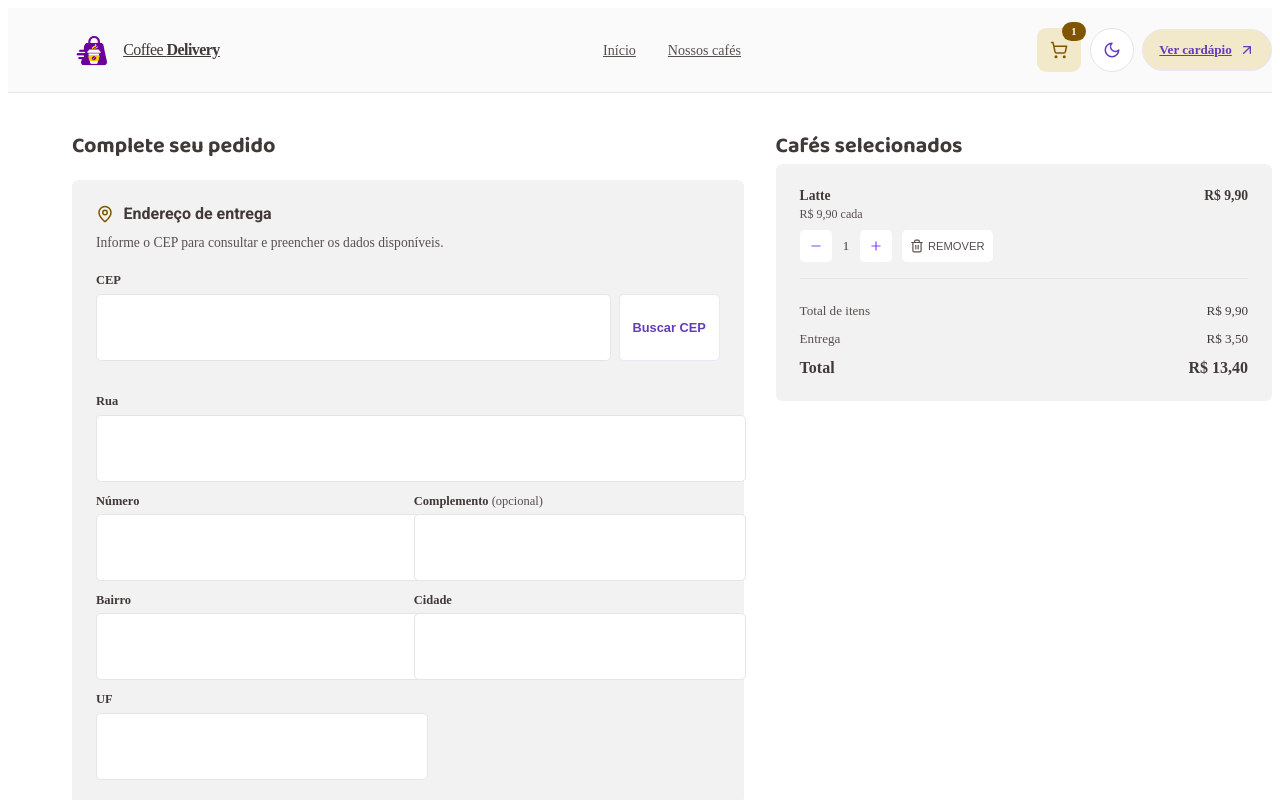
CheckoutPage › keeps the cart when saving a confirmed order fails
Type "01001000" into the field labelled "CEP".
click(353, 327); type("01001000")  # box [96, 294, 611, 361]
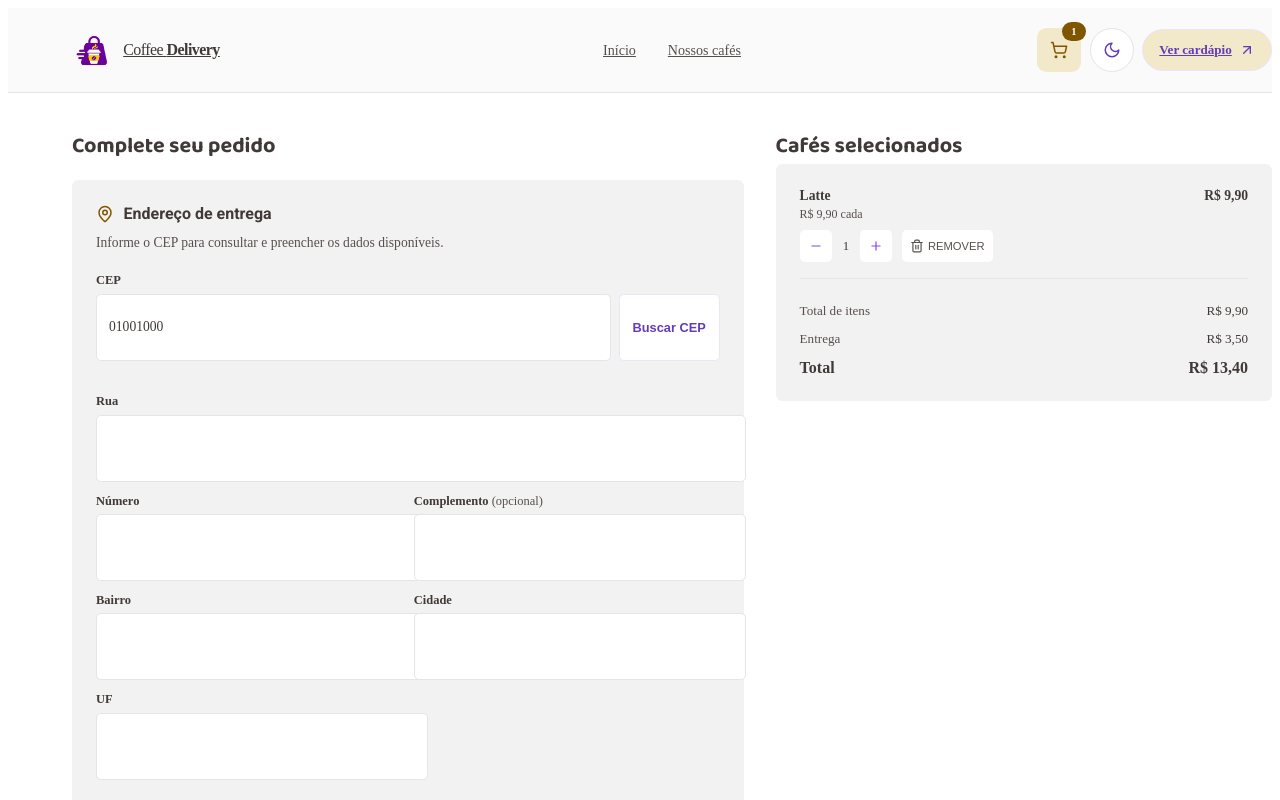
Click the button "Buscar CEP".
click(669, 327)  # box [619, 294, 720, 361]
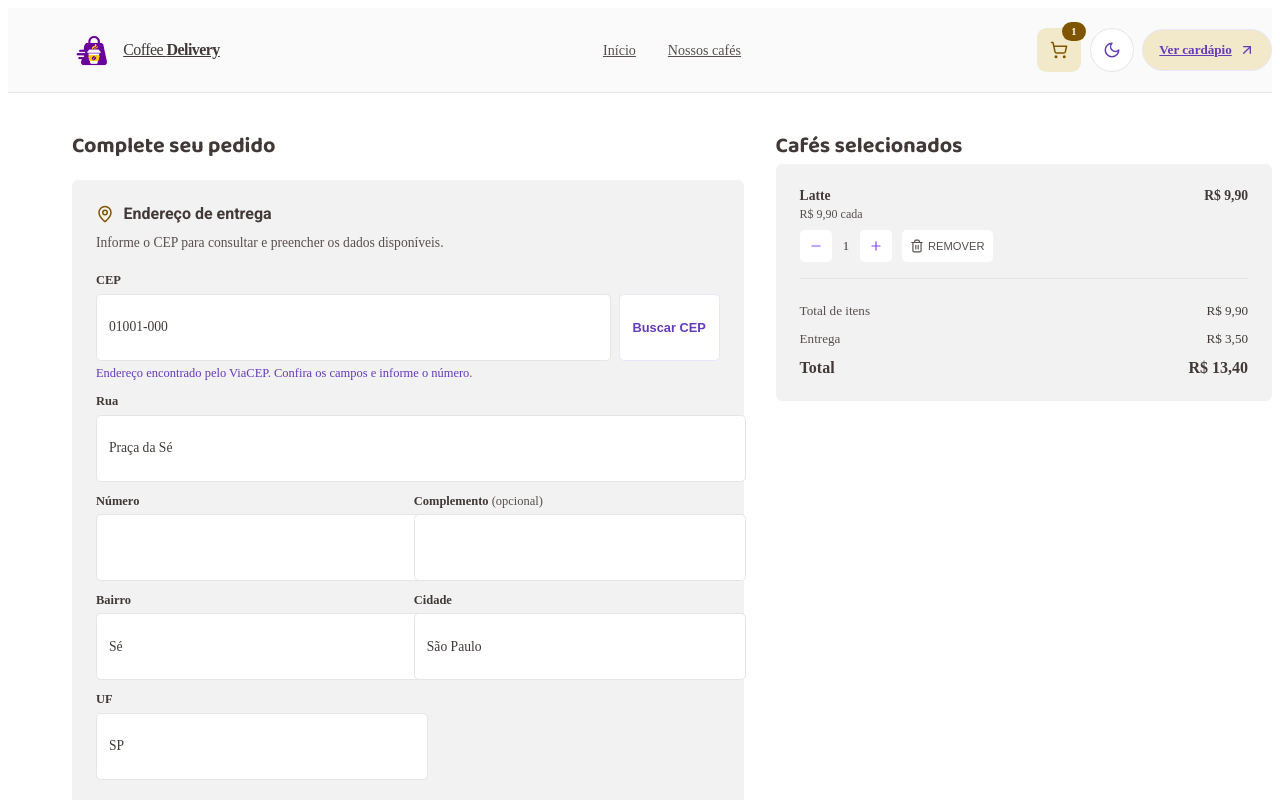
Now the text "Endereço encontrado pelo ViaCEP. Confira os campos e informe o número." is shown, box [96, 366, 472, 380]
Type "100" into the field labelled "Número".
click(262, 548); type("100")  # box [96, 514, 428, 581]
(page scrolled)
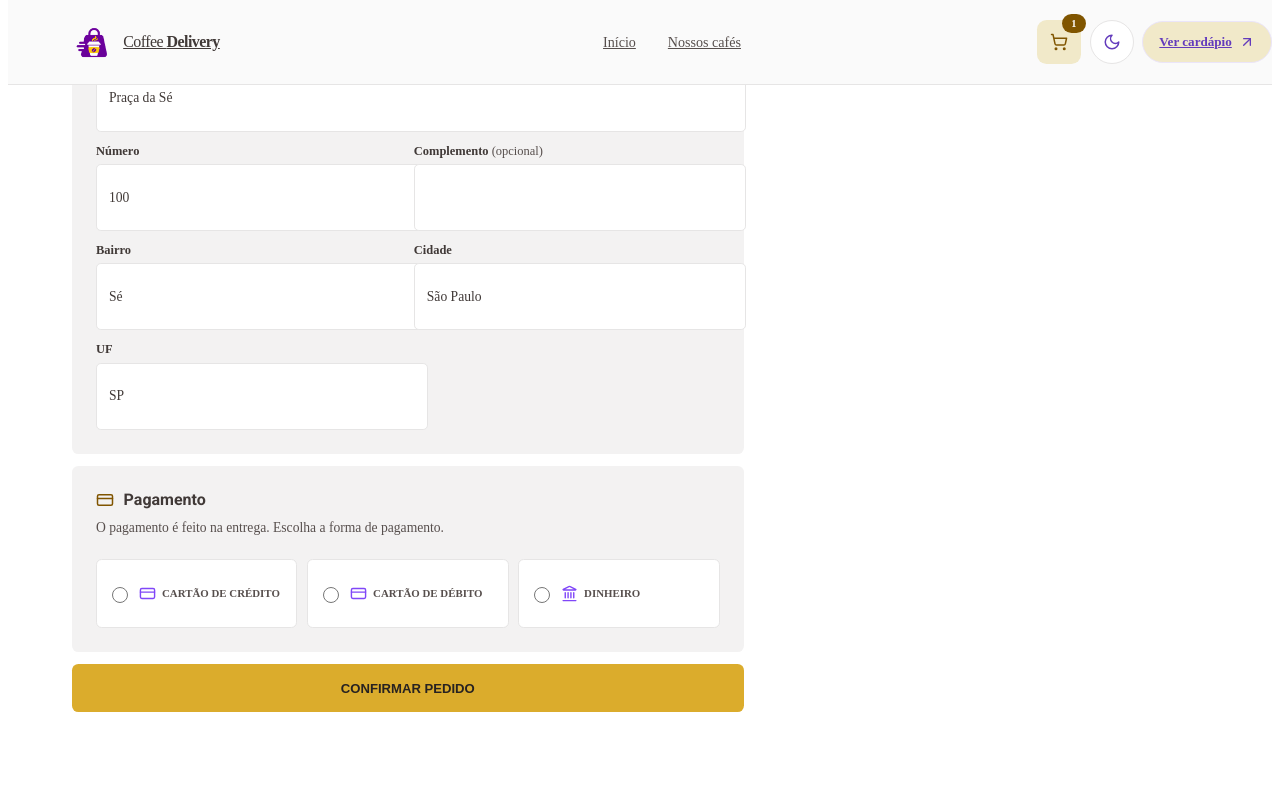
Click the radio button labelled "Cartão de crédito".
click(120, 595)  # box [112, 587, 128, 603]
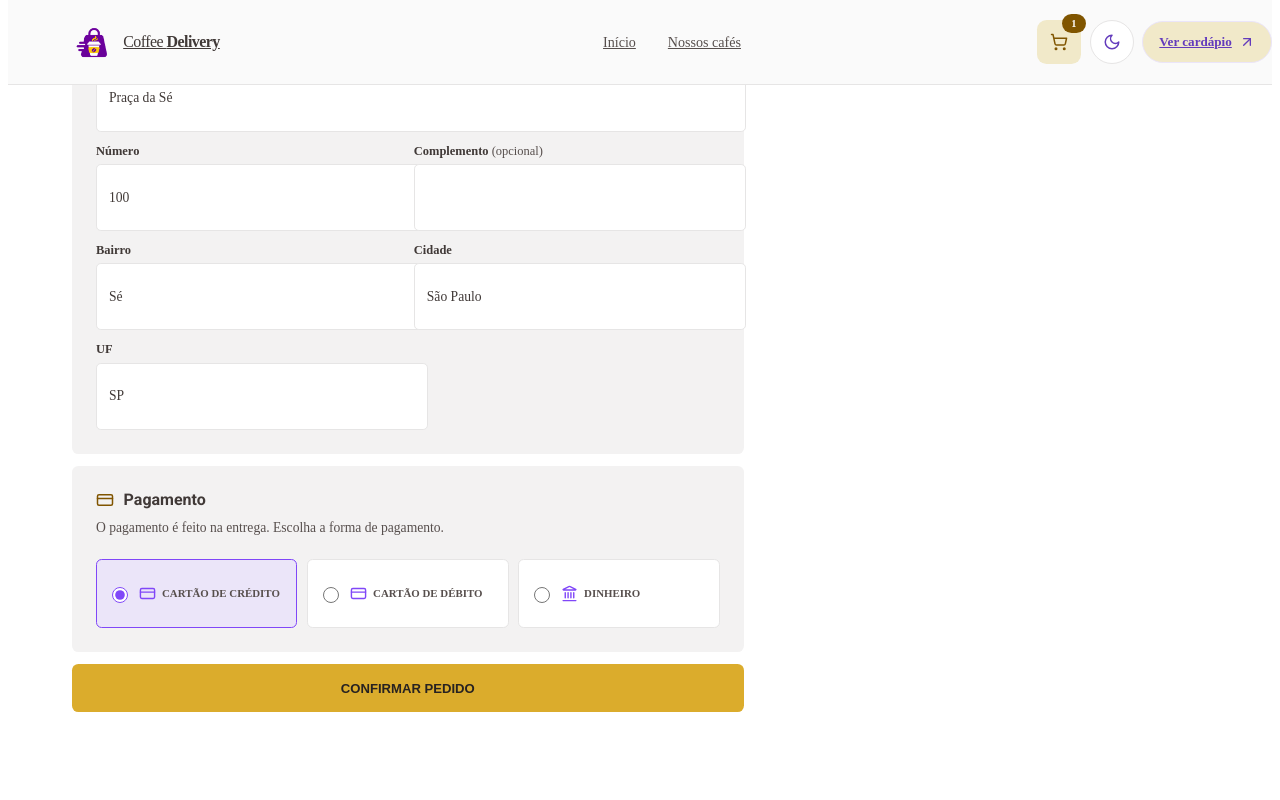
Click the button "Confirmar pedido".
click(408, 688)  # box [72, 664, 744, 712]
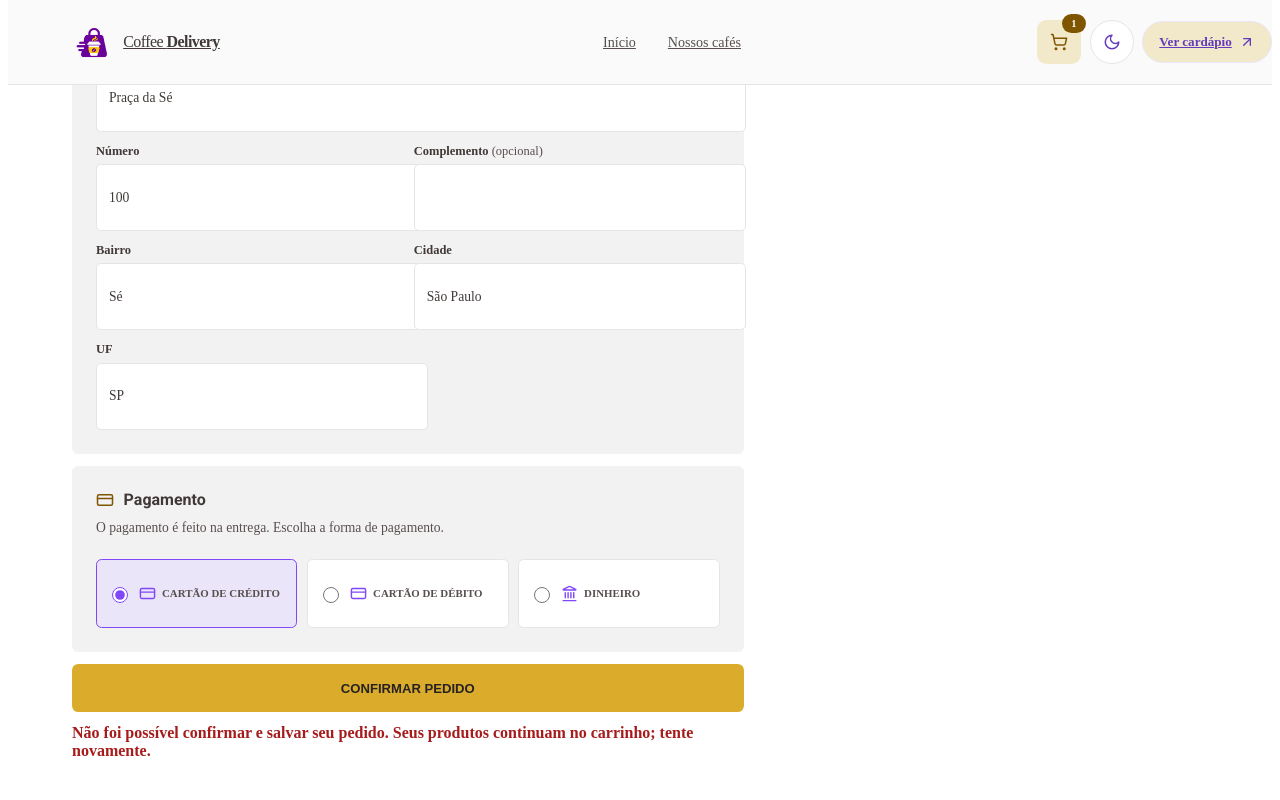
Expected: the link named "Carrinho, 1 unidade" is shown, [1037, 20, 1081, 64]
Now the message shows "seus produtos continuam no carrinho", box [72, 724, 693, 759]
